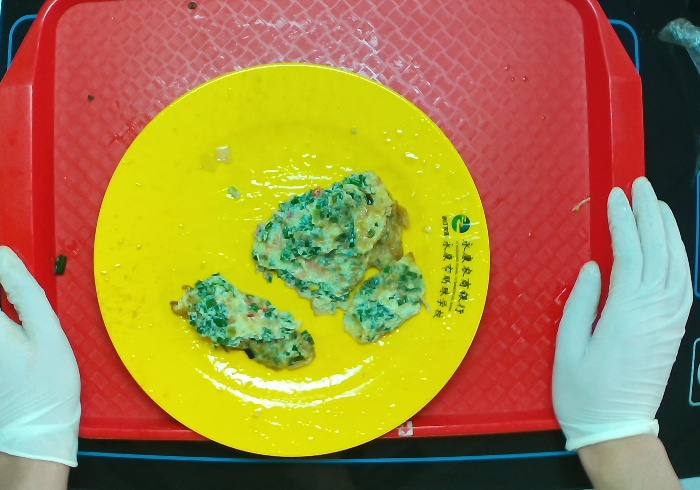YKMZ-Huang_Se_Mian_Pan: (90, 59, 490, 456)
